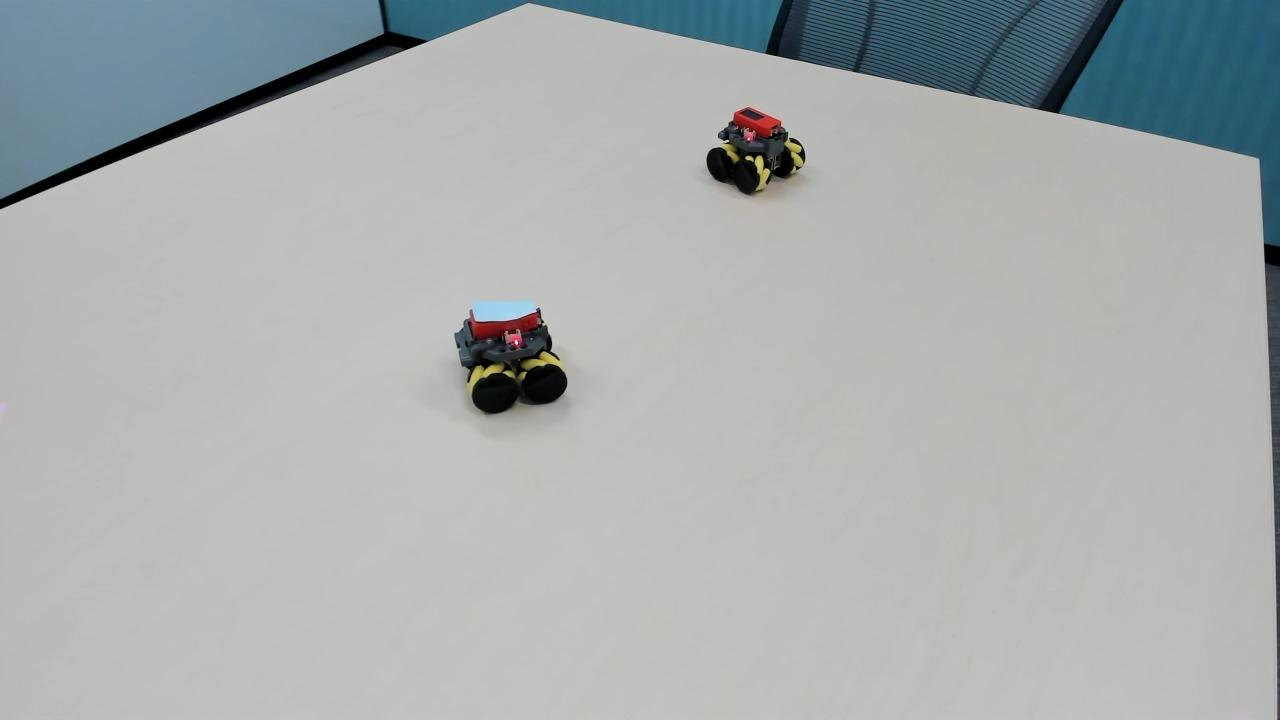B-Robot: (446, 294, 576, 430)
R-Robot: (694, 89, 813, 206)
